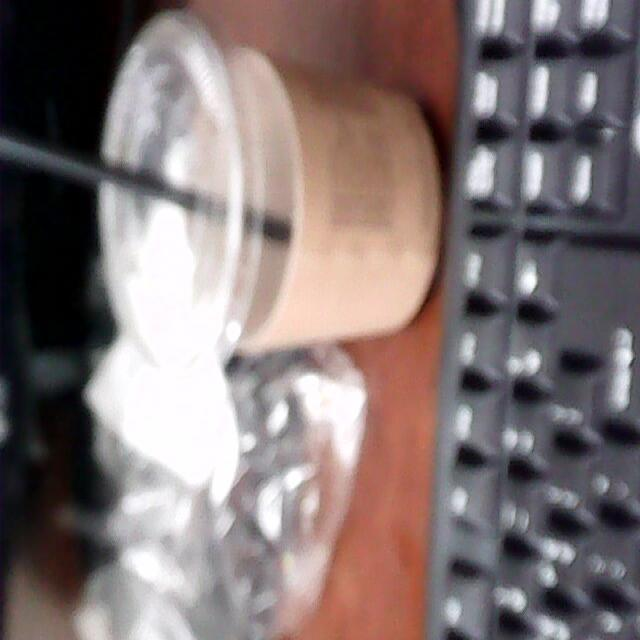cup: (96, 12, 448, 370)
